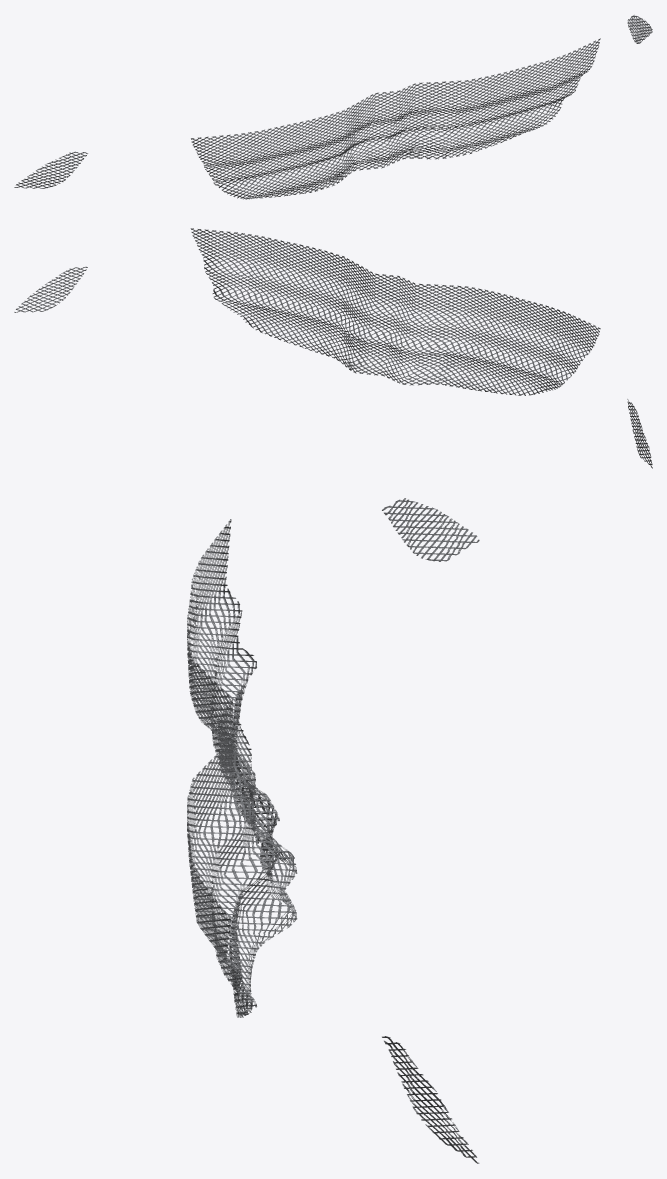
The model's file is ZG02_zunsport_grille_stainless.glb.
3 renders of one model, top to bottom at view 1: azimuth 30°, elevation 25°; view 2: azimuth 150°, elevation 25°; view 3: azimuth 270°, elevation 25°, orthographic. The views are drawn at different scales.
Parts seen in each view (by area): view 1: MOD_ND_ZG02_mouth, MOD_ND_ZG02_lower_R, MOD_ND_ZG02_lower_L; view 2: MOD_ND_ZG02_mouth, MOD_ND_ZG02_lower_L, MOD_ND_ZG02_lower_R; view 3: MOD_ND_ZG02_mouth, MOD_ND_ZG02_lower_R, MOD_ND_ZG02_lower_L.
Part boxes in pixels (<box>): MOD_ND_ZG02_mouth: <box>191,38,600,199</box>; MOD_ND_ZG02_lower_R: <box>14,151,87,188</box>; MOD_ND_ZG02_lower_L: <box>627,15,652,43</box>; MOD_ND_ZG02_mouth: <box>190,228,600,395</box>; MOD_ND_ZG02_lower_L: <box>14,266,87,312</box>; MOD_ND_ZG02_lower_R: <box>627,399,652,468</box>; MOD_ND_ZG02_mouth: <box>187,519,297,1017</box>; MOD_ND_ZG02_lower_R: <box>382,498,479,561</box>; MOD_ND_ZG02_lower_L: <box>382,1036,479,1163</box>.
Bounding box in the file's own units: 1.45 × 0.192 × 0.2878.
1 material, 1 textured.
